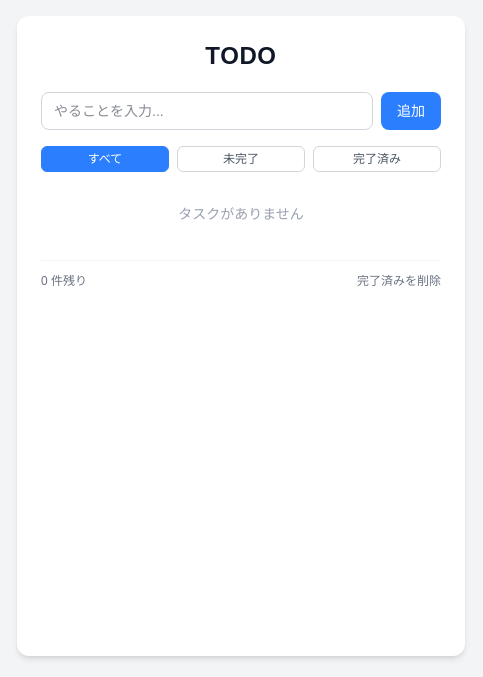
Scenario: Home (TODO app) › toggles a todo to completed, applying strikethrough and decrementing remaining count
Type "牛乳を買う" into the field with placeholder "やることを入力...". click: (207, 111)
box: [41,92,373,130]
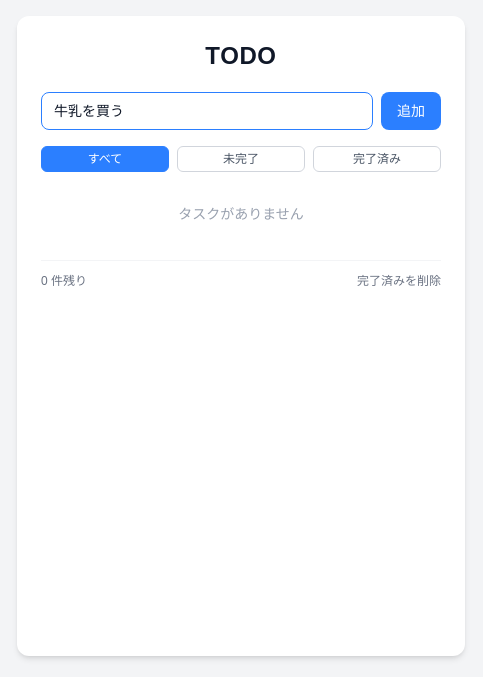
Click the button "追加". click: (411, 111)
box: [381,92,441,130]
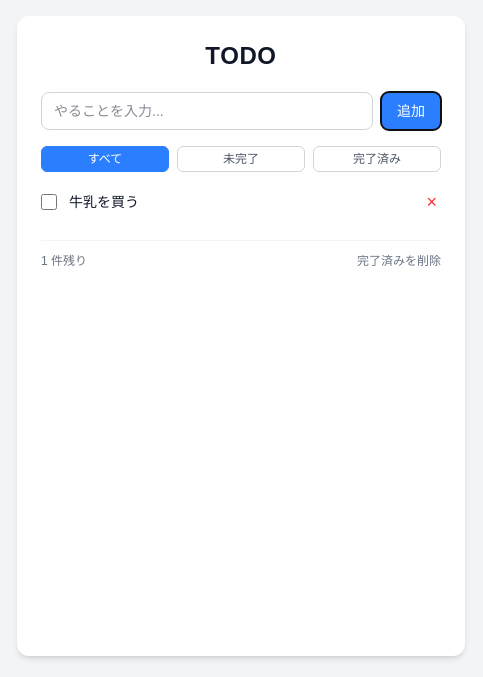
Click the checkbox. click: (49, 202)
box: [41,194,57,210]
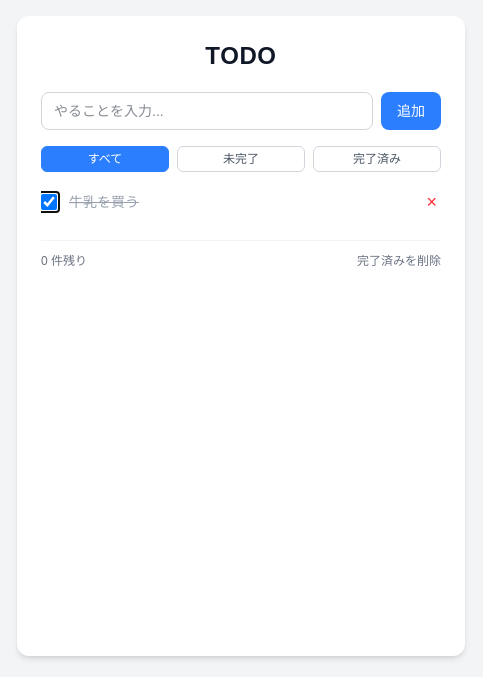
Now the checkbox is checked, box [41,194,57,210]
Now the text "0 件残り" is shown, box [41,253,87,269]
